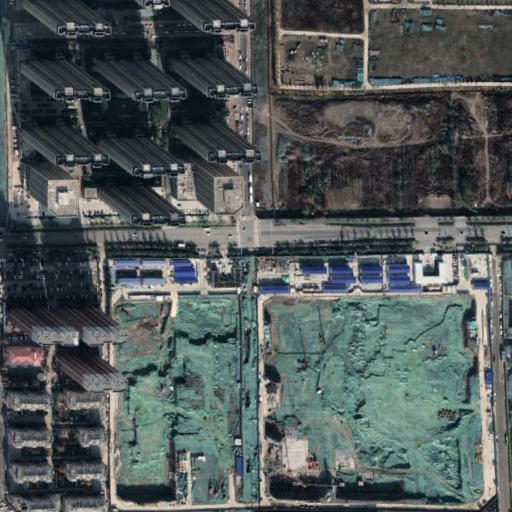cw: (113, 292, 482, 509)
